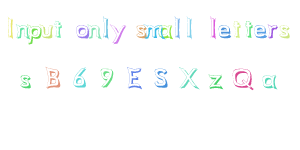6: (71, 66, 88, 88)
9: (98, 66, 114, 88)
B: (44, 64, 62, 90)
E: (125, 65, 144, 90)
I: (4, 16, 20, 43)
Q: (230, 66, 254, 90)
X: (179, 66, 199, 90)
a: (261, 73, 278, 91), (158, 22, 173, 40)
e: (217, 23, 231, 41), (254, 23, 267, 40)
l: (207, 14, 218, 38), (172, 13, 182, 38), (184, 14, 193, 40), (101, 16, 111, 39)
m: (144, 22, 162, 41)
n: (86, 21, 102, 39), (15, 21, 30, 40)
o: (75, 23, 90, 40)
p: (26, 21, 43, 46)
r: (266, 22, 278, 39)
s: (153, 66, 169, 88), (18, 73, 33, 90), (135, 23, 147, 40), (279, 23, 291, 40)
t: (231, 18, 242, 39), (52, 19, 64, 38), (242, 18, 253, 38)
u: (39, 22, 53, 40)
x: (207, 73, 225, 90)
y: (110, 23, 126, 45)
